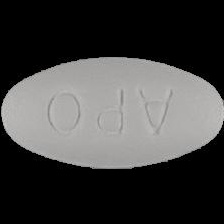35356-929: (0, 0, 224, 224)
